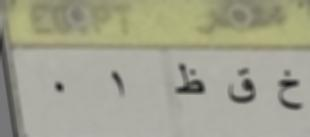0: (51, 74, 69, 99)
1: (110, 66, 128, 100)
Thaa: (173, 60, 208, 100)
khaa: (274, 67, 303, 115)
qaaf: (226, 66, 257, 109)
